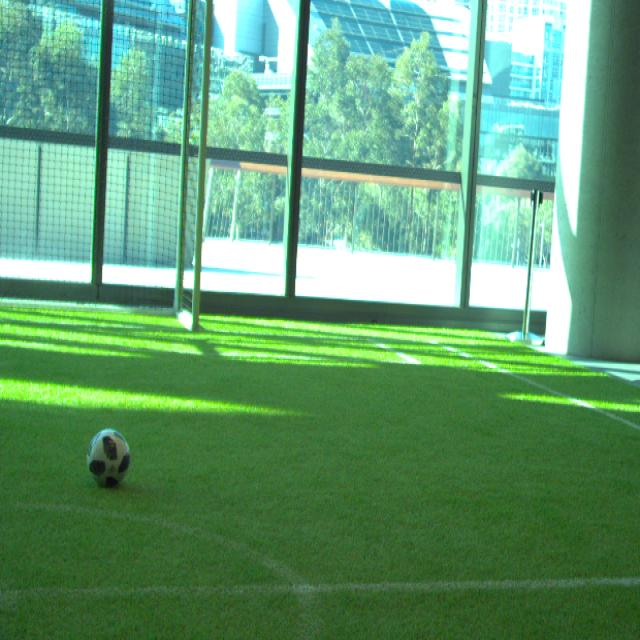ball: (88, 428, 131, 489)
goalpost: (190, 2, 213, 330)
